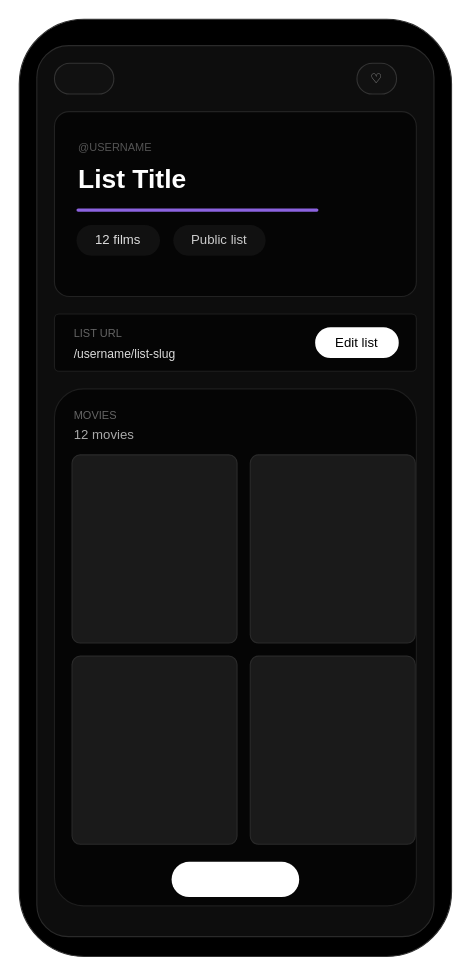
This 471x976 diagram has some shape labels left out. Each missing label, with the centre of its shape:
"BACK" belongs at point (83, 78).
"Export CSV" belongs at point (235, 879).
